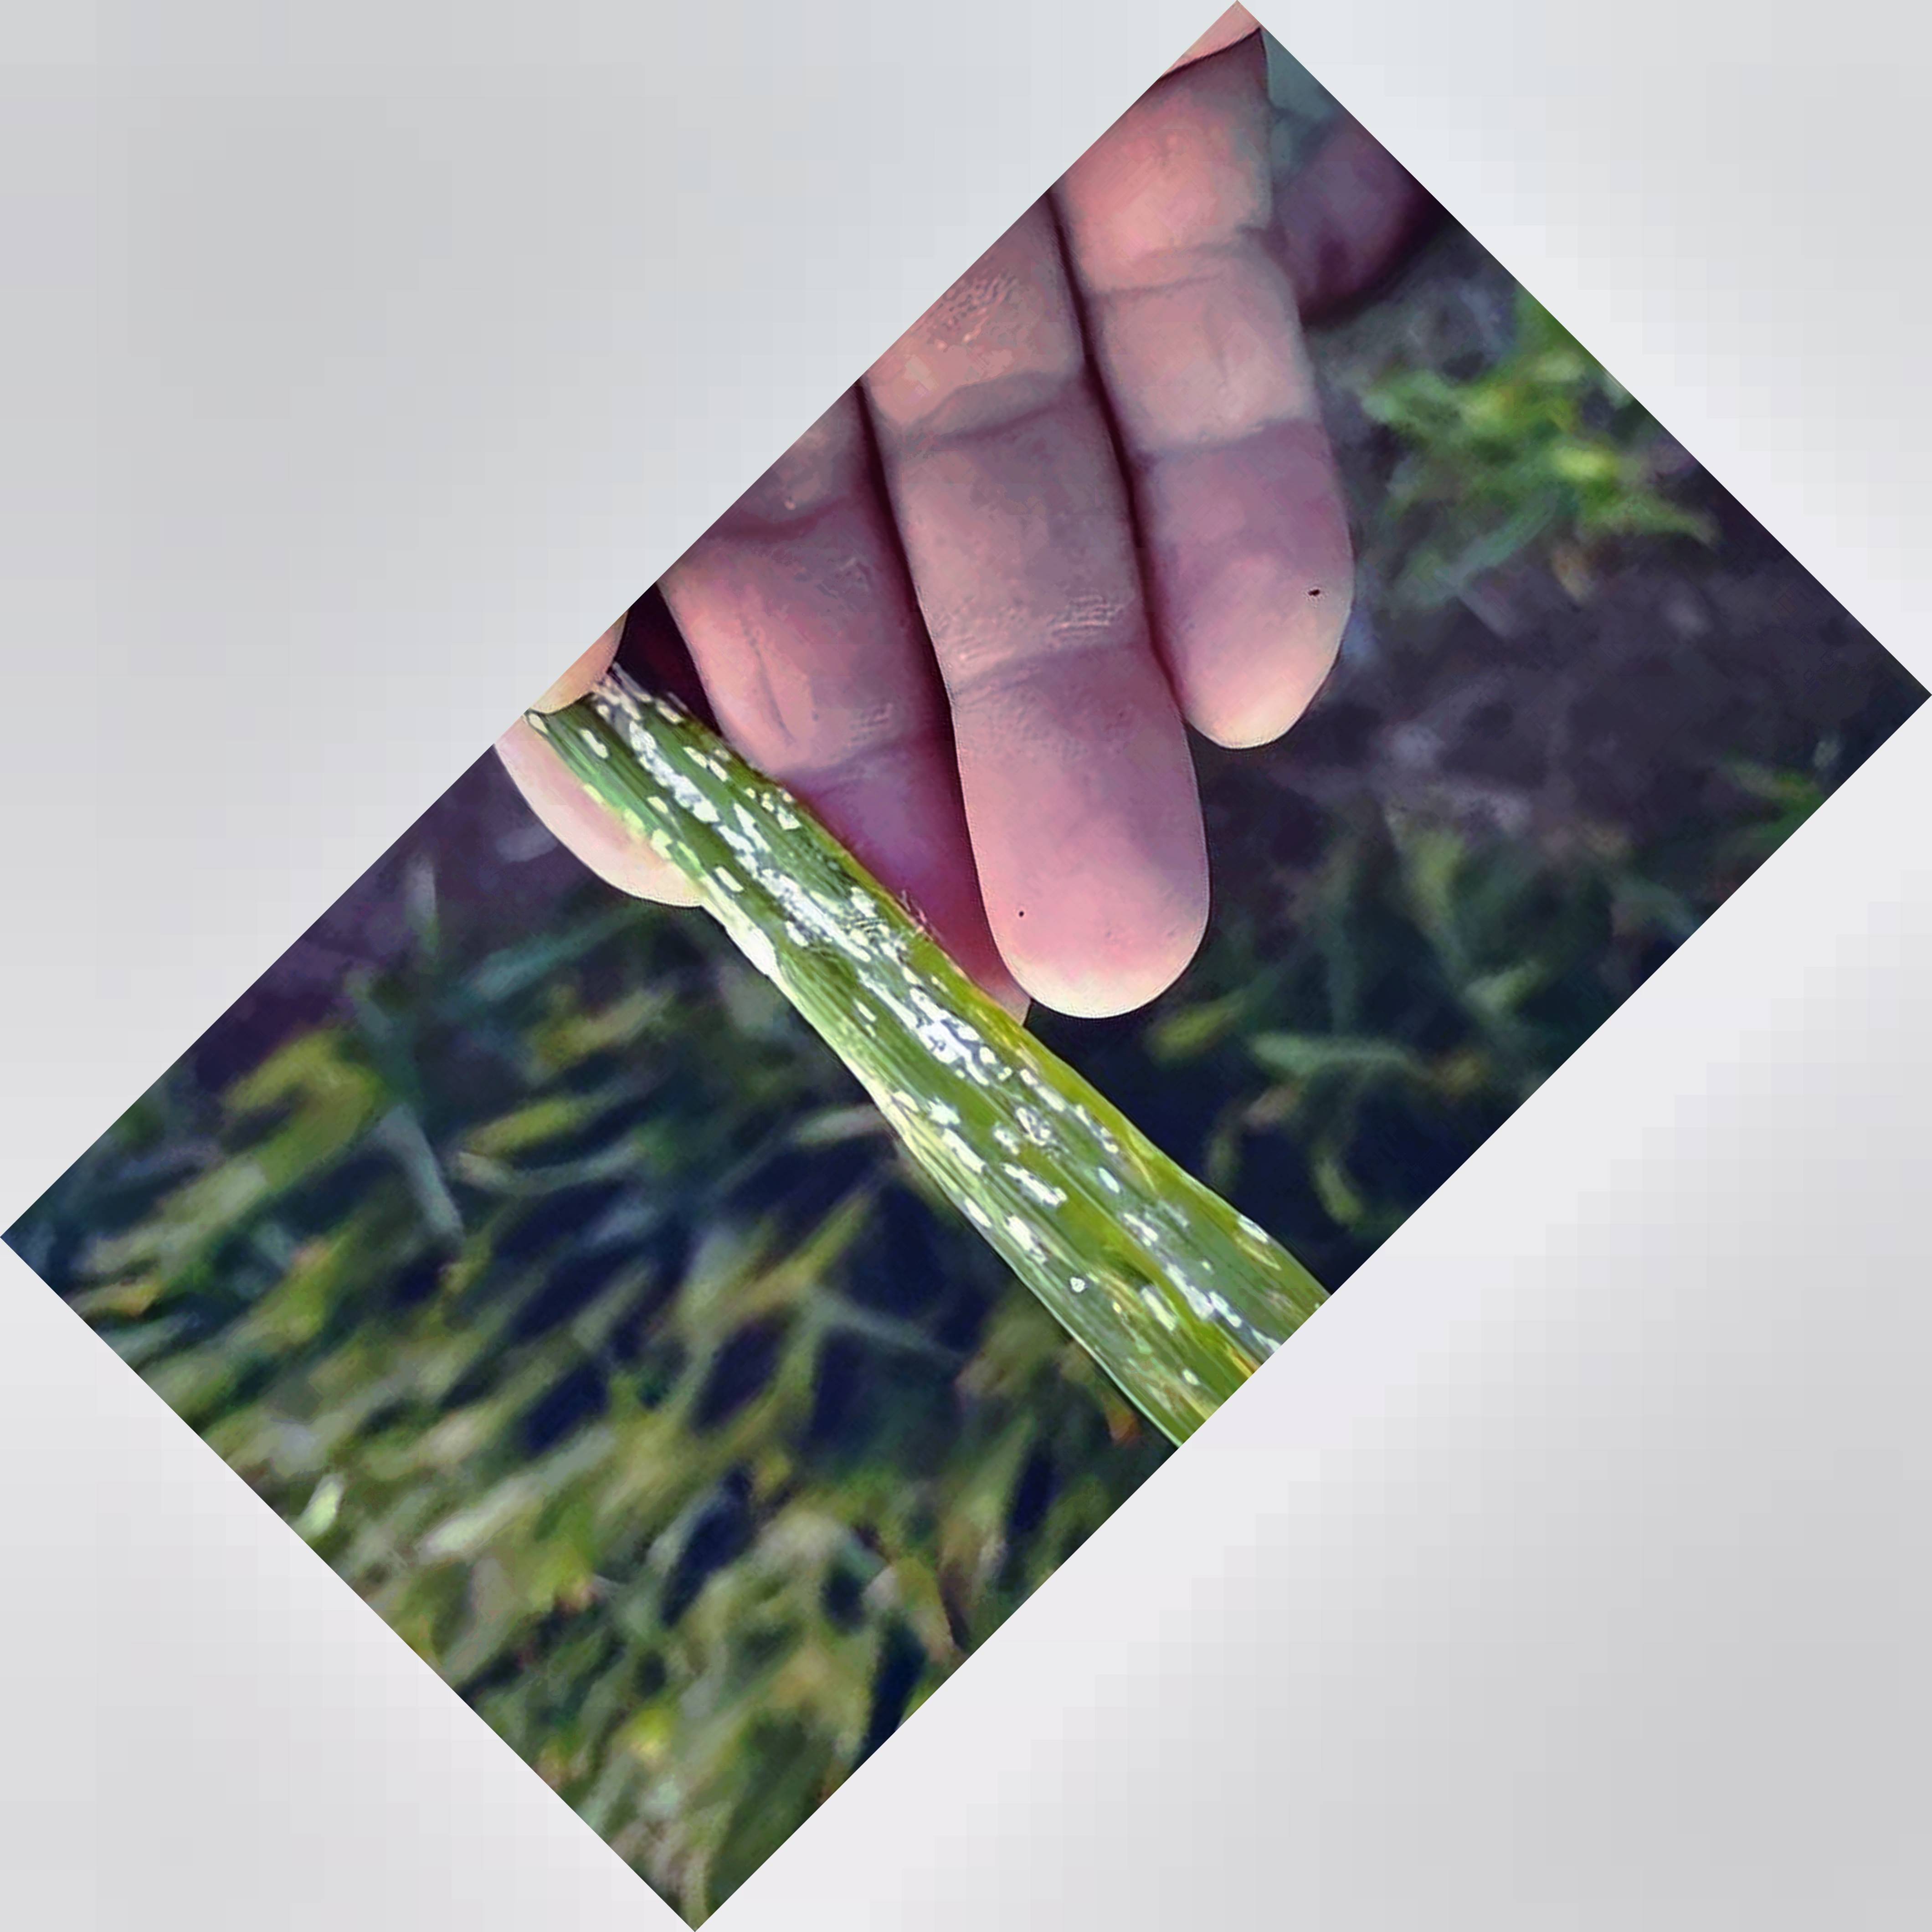Powdery Mildew: (579, 709, 1215, 1343)
